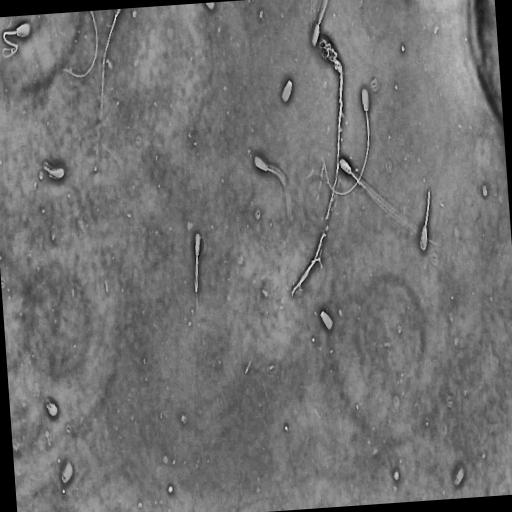coiled-tail: (195, 236, 205, 271), (44, 165, 63, 177), (425, 192, 430, 227), (197, 261, 199, 291), (196, 291, 198, 309), (195, 271, 196, 291), (196, 272, 197, 288), (197, 256, 198, 264)
dirt-particles: (289, 228, 328, 300)
folded-tail: (3, 30, 17, 57)
loose-head: (58, 458, 74, 489), (280, 77, 294, 108), (319, 307, 335, 334), (45, 398, 60, 418)
loose-tail: (63, 11, 99, 80)
normal: (339, 155, 441, 249), (321, 85, 372, 197), (318, 35, 347, 223), (253, 153, 295, 251), (1, 20, 33, 60), (418, 185, 433, 254), (193, 228, 202, 294), (43, 161, 66, 183)
